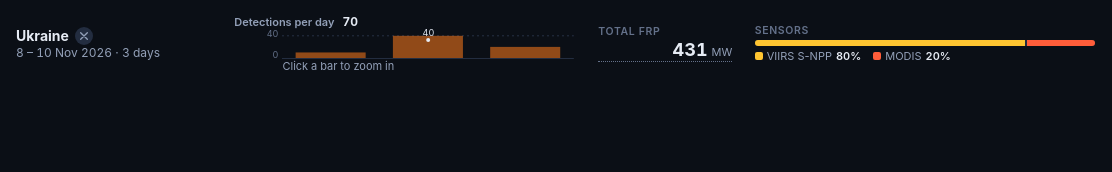
SummaryBar › shows the place and clears it
This screenshot has width=1112, height=172.
Expected: the text "Detections per day" is shown, [234,16,334,29]
Expected: the text "Ukraine" is shown, [16,27,69,45]
Step 1. Click the button named "Clear place" → (84, 36), box [75,27,93,45]
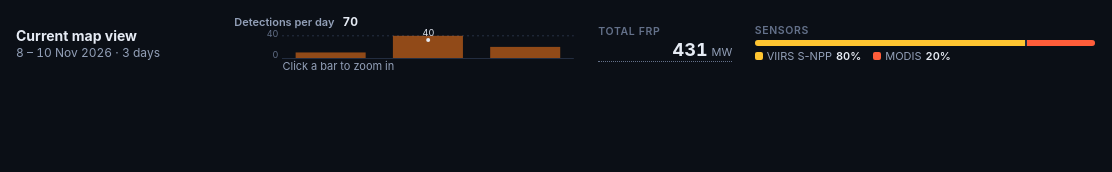
Expected: the text "Current map view" is shown, [16,27,137,45]
